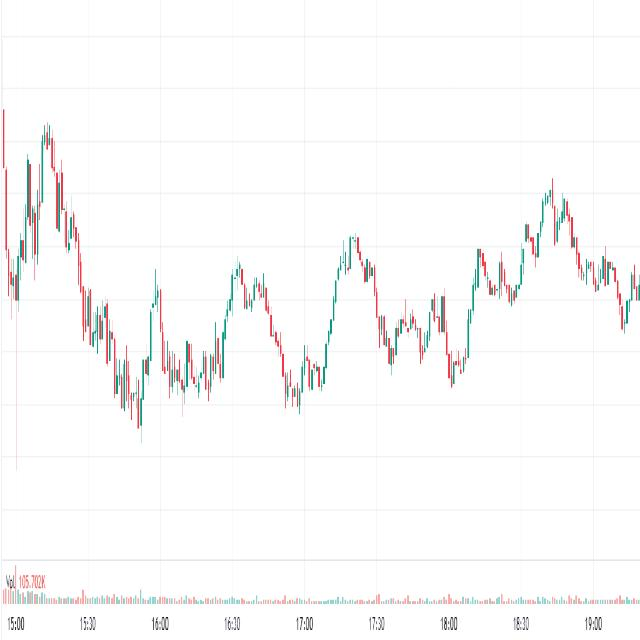Double-Bottom: (276, 306, 332, 432), (444, 324, 473, 394)
Double-Top: (226, 246, 276, 352)
Head-Shoulders: (12, 103, 90, 370), (511, 168, 589, 310), (326, 216, 389, 388)
